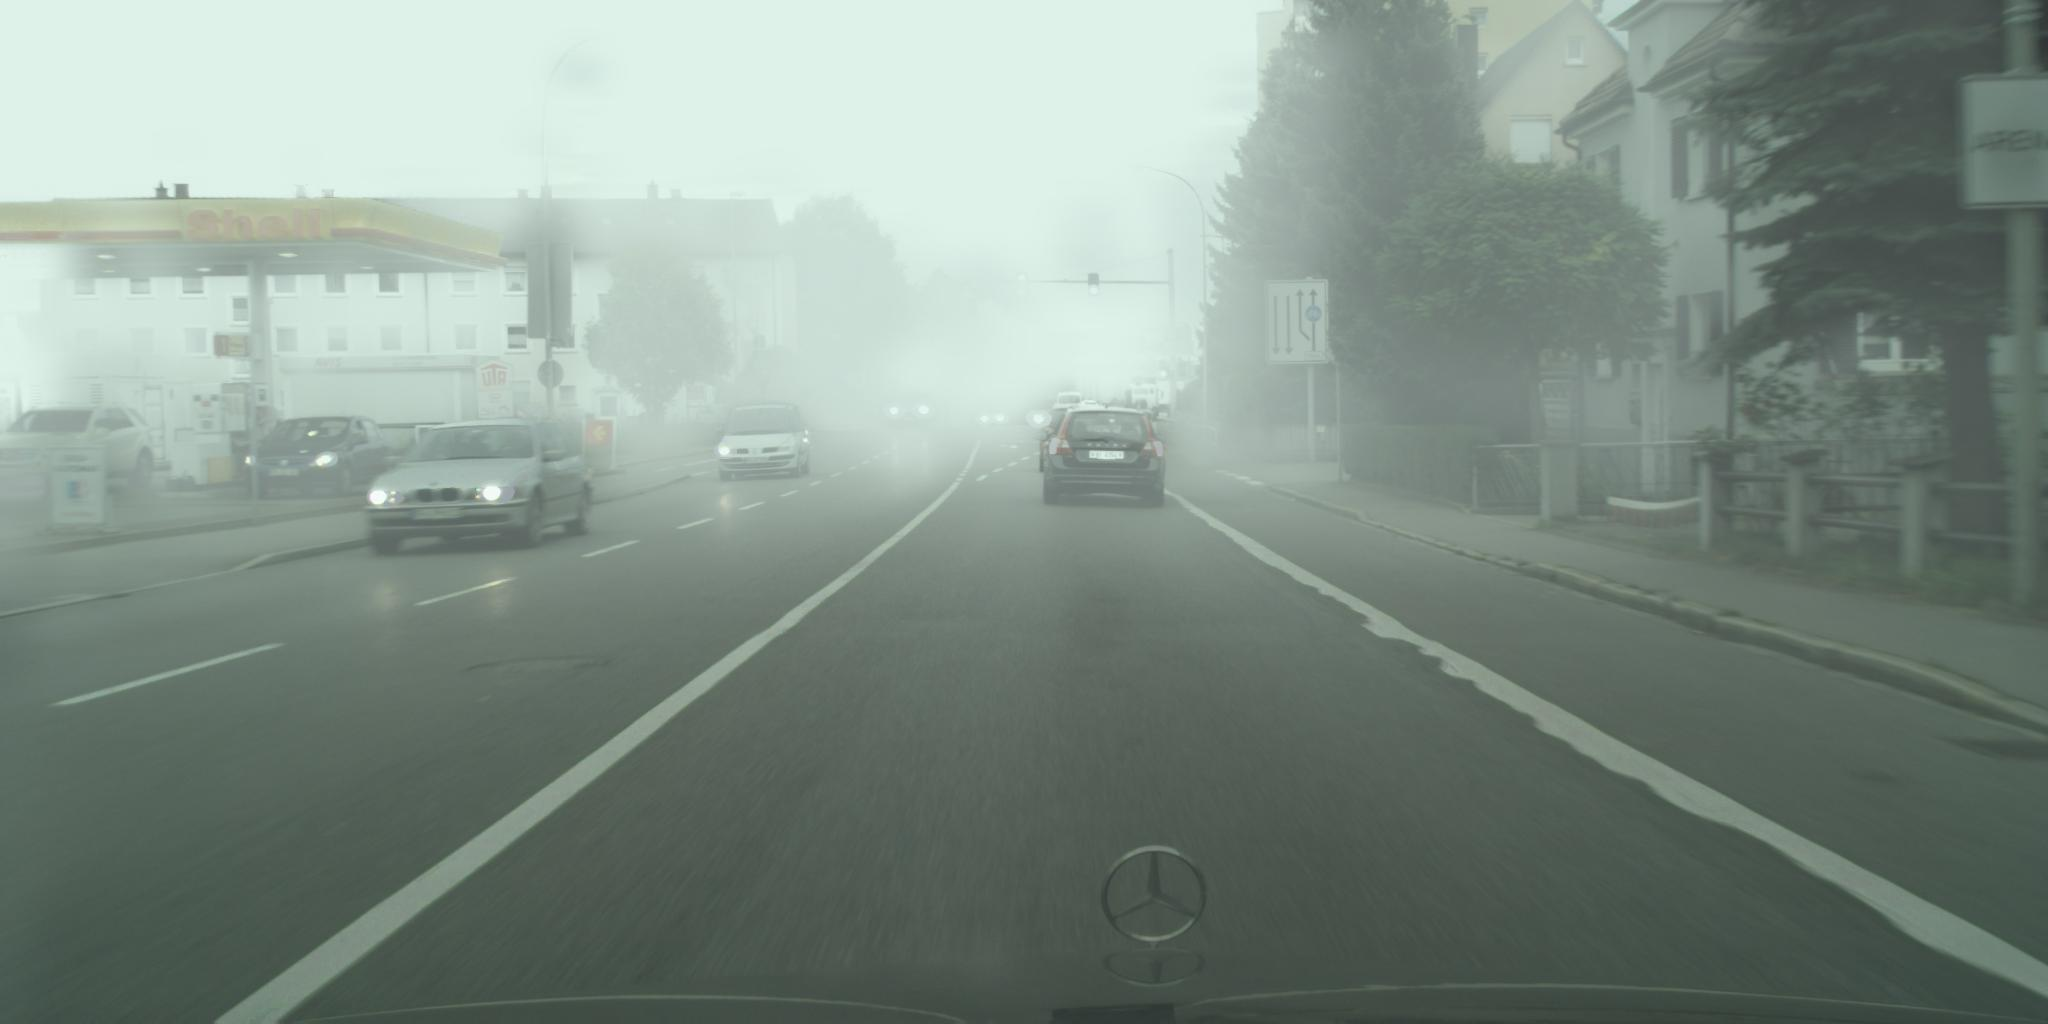car: (366, 418, 596, 559), (1034, 405, 1166, 508), (1, 405, 154, 491), (244, 417, 391, 502), (714, 404, 812, 481), (1040, 408, 1091, 474), (889, 393, 938, 430), (976, 408, 1012, 432), (1058, 392, 1081, 410), (1076, 398, 1098, 414)
truck: (1125, 377, 1204, 423)
